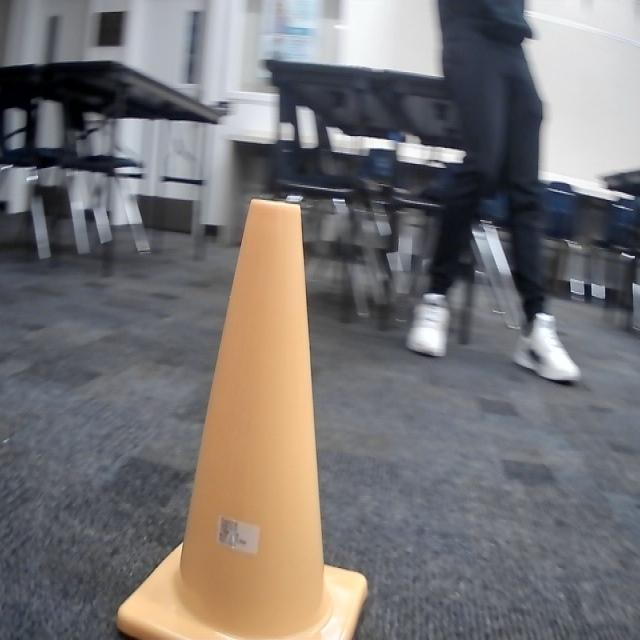cone: (104, 188, 374, 640)
